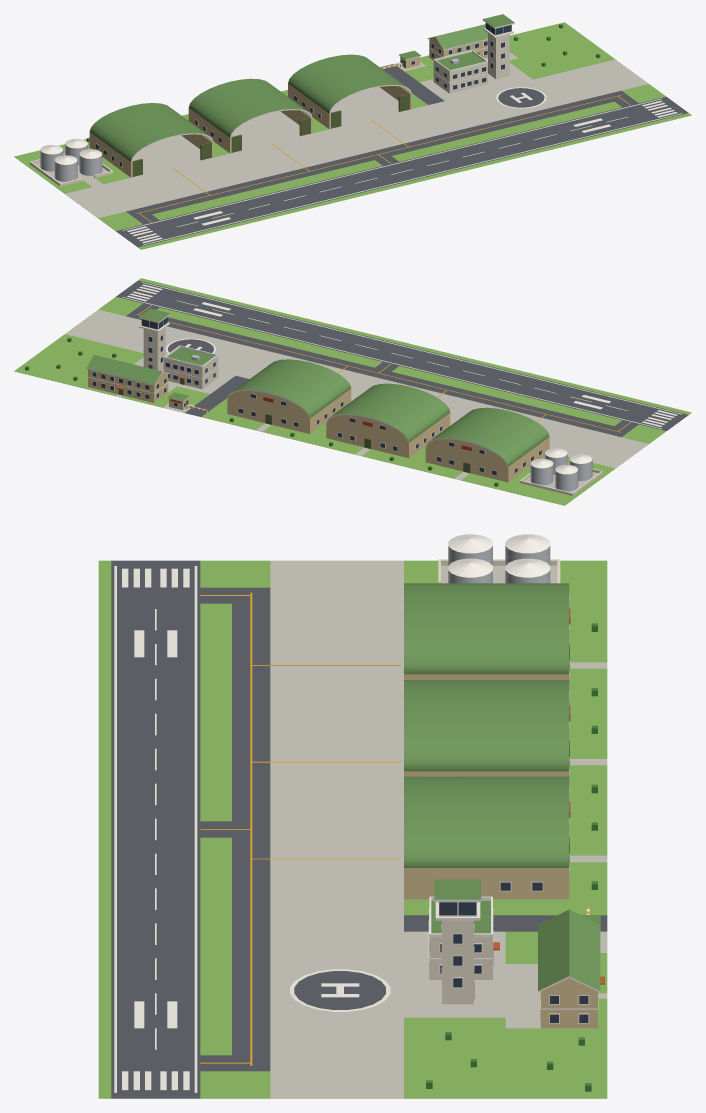
Rendered from airfield.glb.
3 views of the same model, one above another, from view 1: azimuth 30°, elevation 25°; view 2: azimuth 150°, elevation 25°; view 3: azimuth 270°, elevation 25° (orthographic). The views are drawn at different scales.
Visible parts, largest first — view 1: apron, lawn, runway, roof (×5), paving, taxiway, wall (×6), runway_markings, tank (×2), asphalt, helipad, taxiway_line; view 2: lawn, roof (×5), runway, apron, wall (×11), taxiway, gable (×3), runway_markings, paving, tank (×2), asphalt, taxiway_line (+1 smaller); view 3: apron, lawn, roof (×5), runway, taxiway, wall (×6), paving, runway_markings, helipad, taxiway_line, asphalt.
Part boxes in pixels (x1,y1,x2,y2): apron: (65,59,648,218); lawn: (14,22,691,249); runway: (116,96,688,247); roof (×5): (89,24,487,161); paving: (34,52,532,186); taxiway: (126,90,638,224); wall (×6): (89,33,509,177); runway_markings: (122,98,682,245); tank (×2): (54,154,102,181); asphalt: (380,64,444,104); helipad: (498,88,544,107); taxiway_line: (136,95,630,222); lawn: (14,278,691,505); roof (×5): (86,347,549,466); runway: (116,280,688,430); apron: (65,309,648,468); wall (×11): (88,327,549,482); taxiway: (126,303,638,437); gable (×3): (228,390,506,466); runway_markings: (122,282,681,429); paving: (116,357,597,492); tank (×2): (530,464,578,491); asphalt: (185,375,249,416); taxiway_line: (136,305,630,432); apron: (270,560,403,1098); lawn: (98,560,607,1098); roof (×5): (404,583,600,990); runway: (111,560,200,1098); taxiway: (200,587,270,1071); wall (×6): (404,674,597,1028); paving: (404,565,607,1028); runway_markings: (114,566,197,1092); helipad: (294,971,385,1009); taxiway_line: (200,592,252,1065); asphalt: (404,915,607,931).
Bounding box in the file's own units: 200 × 18.75 × 80.
